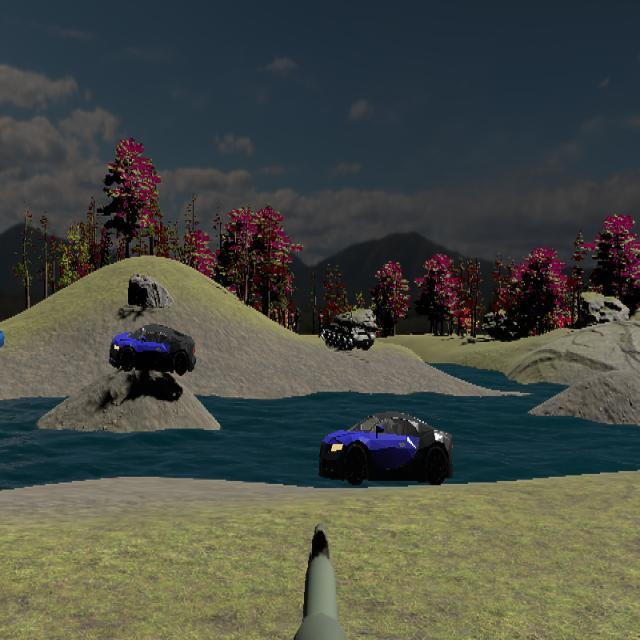Tank: (320, 308, 377, 352)
car: (319, 409, 455, 487), (109, 322, 196, 376)
